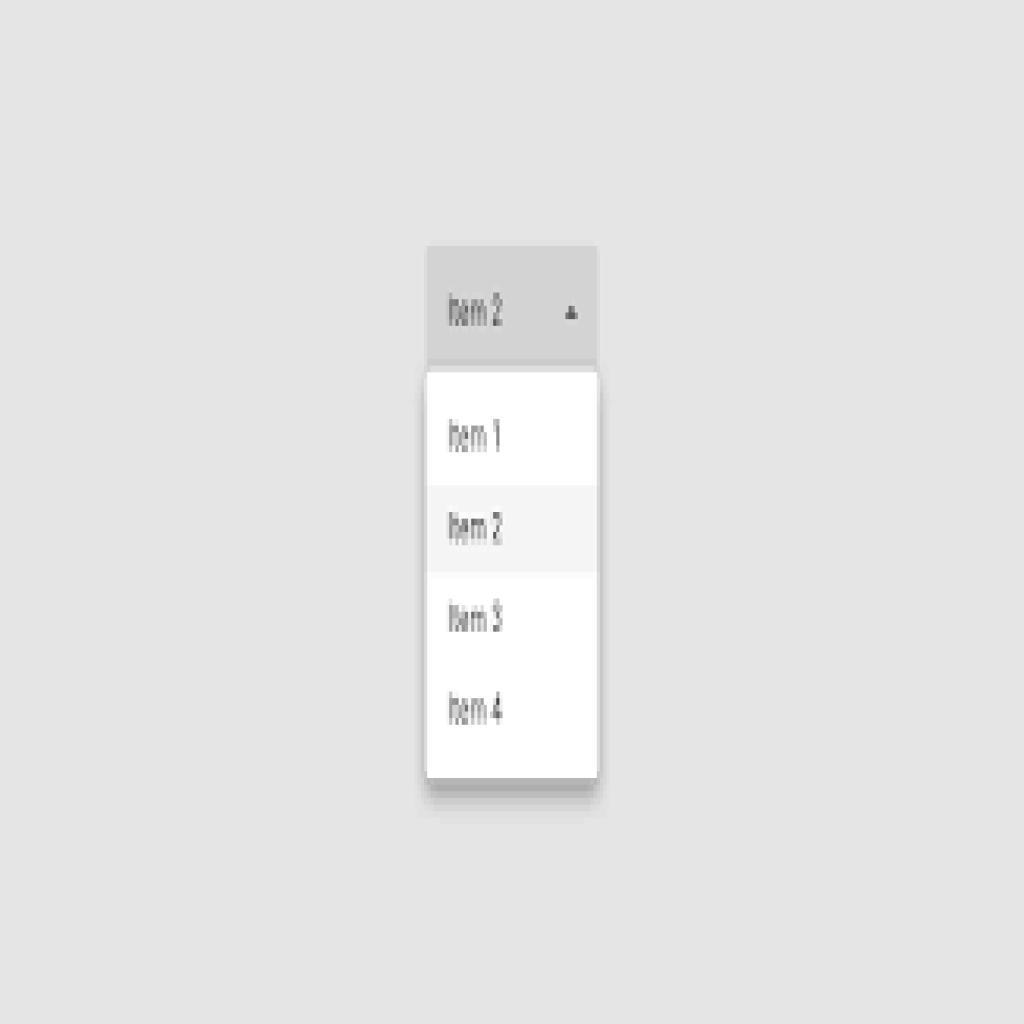dropdown: (426, 242, 599, 371)
